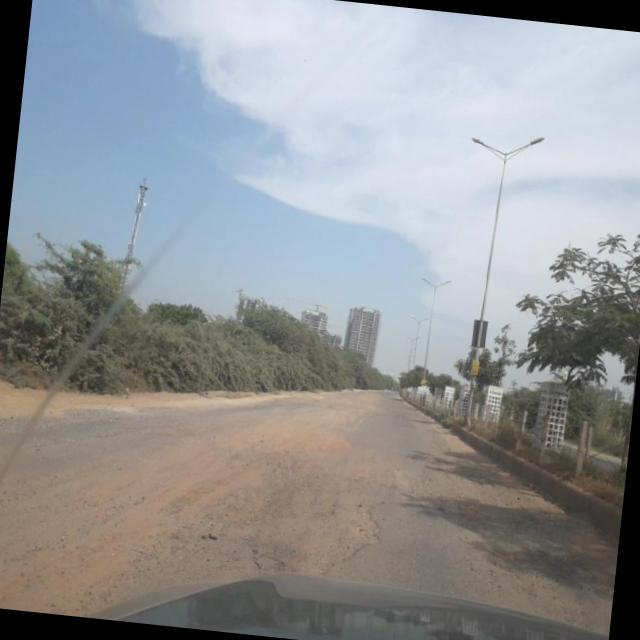pothole: (132, 406, 412, 584), (386, 446, 609, 606)
